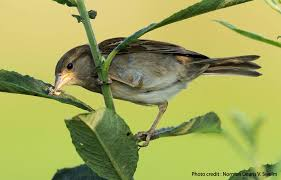hsparrow: (46, 36, 265, 112)
